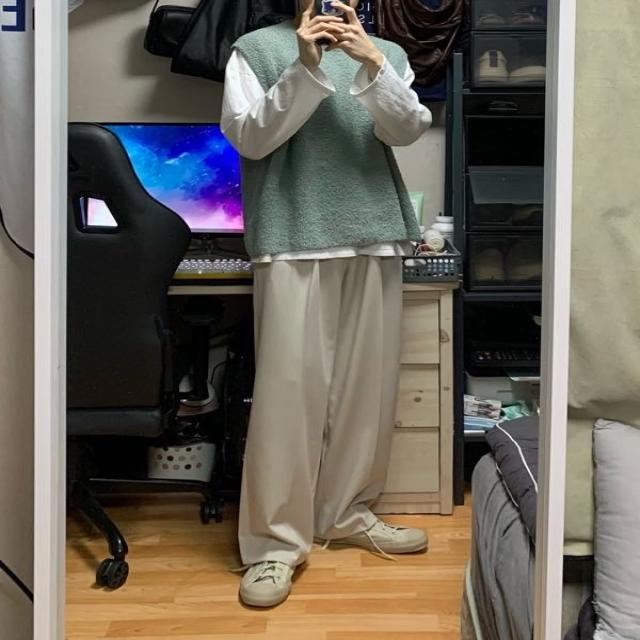sweater: (220, 20, 432, 262)
trainingpants: (236, 248, 403, 570)
